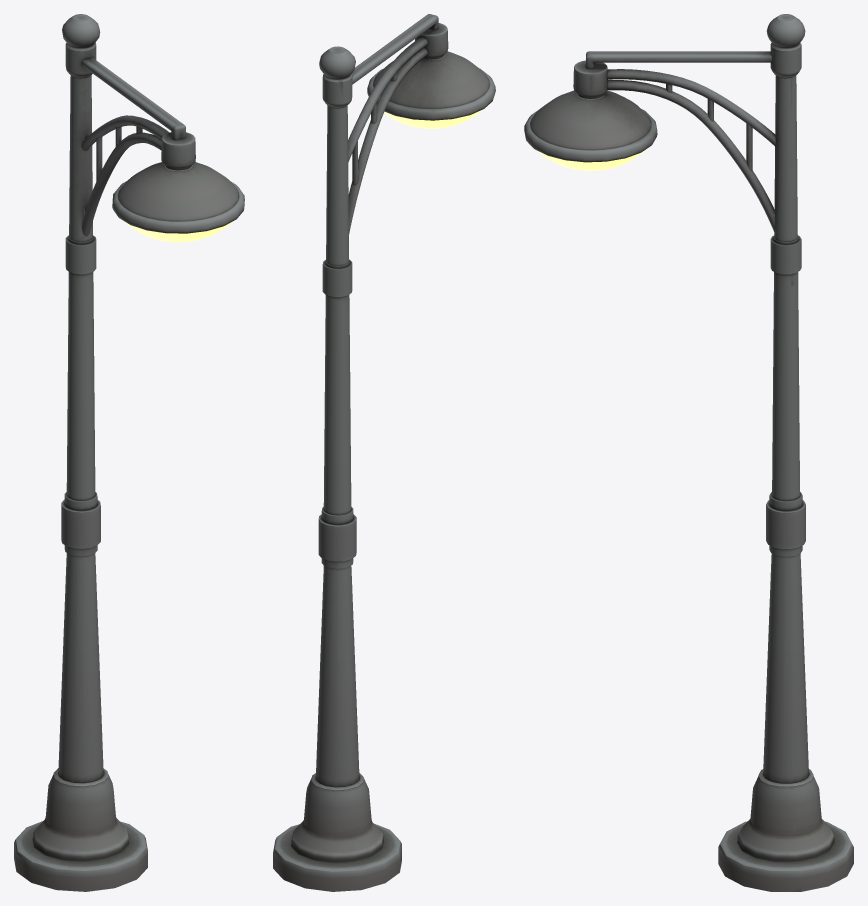
Rendered from lamp.glb.
3 views of the same model, side by side, from view 1: azimuth 30°, elevation 25°; view 2: azimuth 150°, elevation 25°; view 3: azimuth 270°, elevation 25° (orthographic). The views are drawn at different scales.
Parts seen in each view (by area): view 1: SM_Street_Light; view 2: SM_Street_Light; view 3: SM_Street_Light.
Boxes of the visible parts, box(x1,y1,x2,y2) form: SM_Street_Light: box(14, 14, 244, 891); SM_Street_Light: box(273, 14, 495, 891); SM_Street_Light: box(524, 14, 853, 891).
Size of the model in its own units: 0.7856 by 5.5 by 1.94.
Materials: 2 (2 with a texture image).
